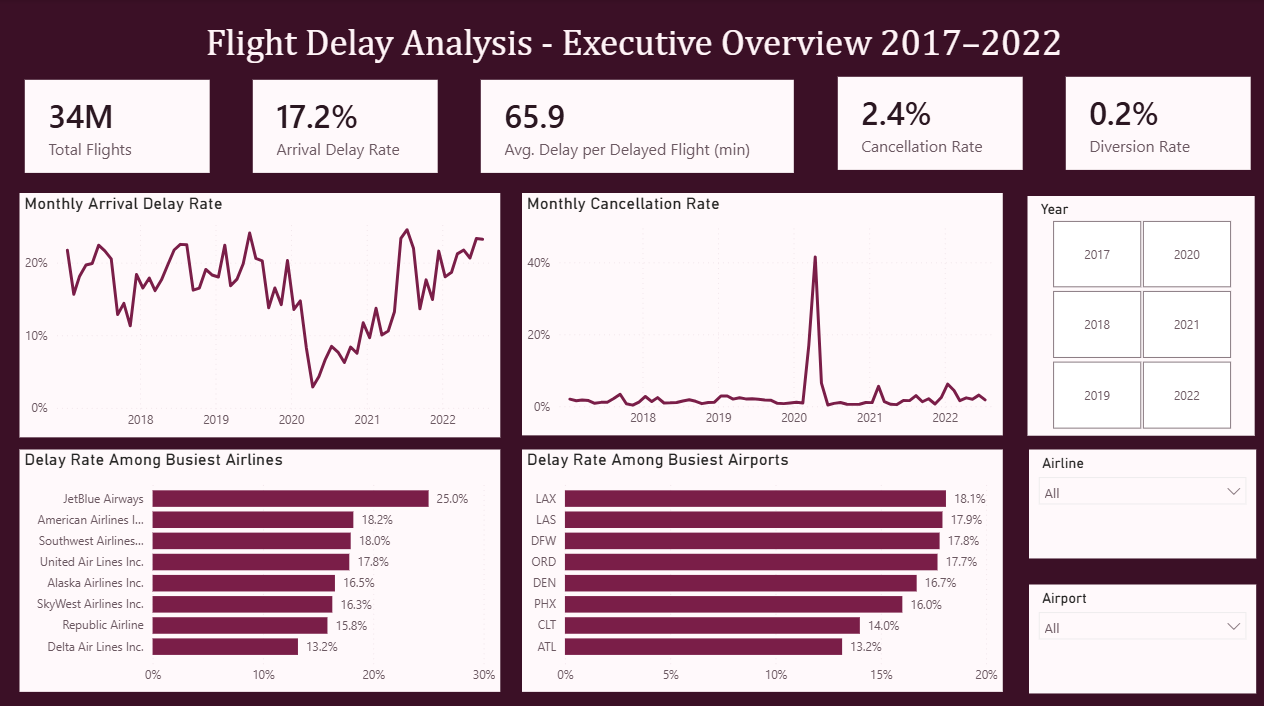

What the dashboard file says about the page in this screenshot:
{"tool":"powerbi","page":{"name":"Executive Overiview","canvas":[1280,720],"ordinal":0},"visuals":[{"type":"cardVisual","fields":{"Data":["airline.Total Flights"]},"box":[19.1,77.9,197,104],"z":0},{"type":"cardVisual","fields":{"Data":["airline.Arrival Delay Rate"]},"box":[249.7,77.9,197,104],"z":1000},{"type":"cardVisual","fields":{"Data":["airline.Cancellation Rate"]},"box":[839.9,74.8,197,104],"z":2000},{"type":"cardVisual","fields":{"Data":["airline.Diversion Rate"]},"box":[1070.5,74.8,197.2,104],"z":3000},{"type":"cardVisual","fields":{"Data":["airline.Average Delay per Delayed Flight"]},"box":[480.2,77.9,326.1,104],"z":4000},{"type":"lineChart","title":"Monthly Arrival Delay Rate","fields":{"Y":["airline.Arrival Delay Rate"],"Category":["airline.MonthDate"]},"box":[19.1,197.2,485.1,246.5],"z":5000},{"type":"lineChart","title":"Monthly Cancellation Rate","fields":{"Category":["airline.MonthDate"],"Y":["airline.Cancellation Rate"]},"box":[526.5,197.2,485.1,245],"z":6000},{"type":"slicer","fields":{"Values":["airline.year"]},"box":[1037.1,200.4,229,241.8],"z":7000},{"type":"slicer","fields":{"Values":["airline.carrier_name"]},"box":[1038.7,456.5,229,110],"z":8000},{"type":"slicer","fields":{"Values":["airline.airport_name"]},"box":[1038.7,591.7,229,109.8],"z":9000},{"type":"clusteredBarChart","title":"Delay Rate Among Busiest Airlines","fields":{"Category":["airline.carrier_name"],"Y":["airline.Arrival Delay Rate"]},"box":[19.1,456.5,485.1,245],"z":10000},{"type":"clusteredBarChart","title":"Delay Rate Among Busiest Airports","fields":{"Y":["airline.Arrival Delay Rate"],"Category":["airline.airport"]},"box":[526.5,456.5,485.1,245],"z":11000},{"type":"textbox","box":[0,16.2,1280,61.5],"z":12000}]}

Visuals, with their boxes in screenshot pixels (x1, y1, x2, y2), scaled from the page's 1280x720 canvas onto the 1264x706 screenshot:
cardVisual - airline.Total Flights: (19,76,213,178)
cardVisual - airline.Arrival Delay Rate: (247,76,441,178)
cardVisual - airline.Cancellation Rate: (829,73,1024,175)
cardVisual - airline.Diversion Rate: (1057,73,1252,175)
cardVisual - airline.Average Delay per Delayed Flight: (474,76,796,178)
"Monthly Arrival Delay Rate" lineChart: (19,193,498,435)
"Monthly Cancellation Rate" lineChart: (520,193,999,434)
slicer - airline.year: (1024,197,1250,434)
slicer - airline.carrier_name: (1026,448,1252,555)
slicer - airline.airport_name: (1026,580,1252,688)
"Delay Rate Among Busiest Airlines" clusteredBarChart: (19,448,498,688)
"Delay Rate Among Busiest Airports" clusteredBarChart: (520,448,999,688)
textbox: (0,16,1263,76)
